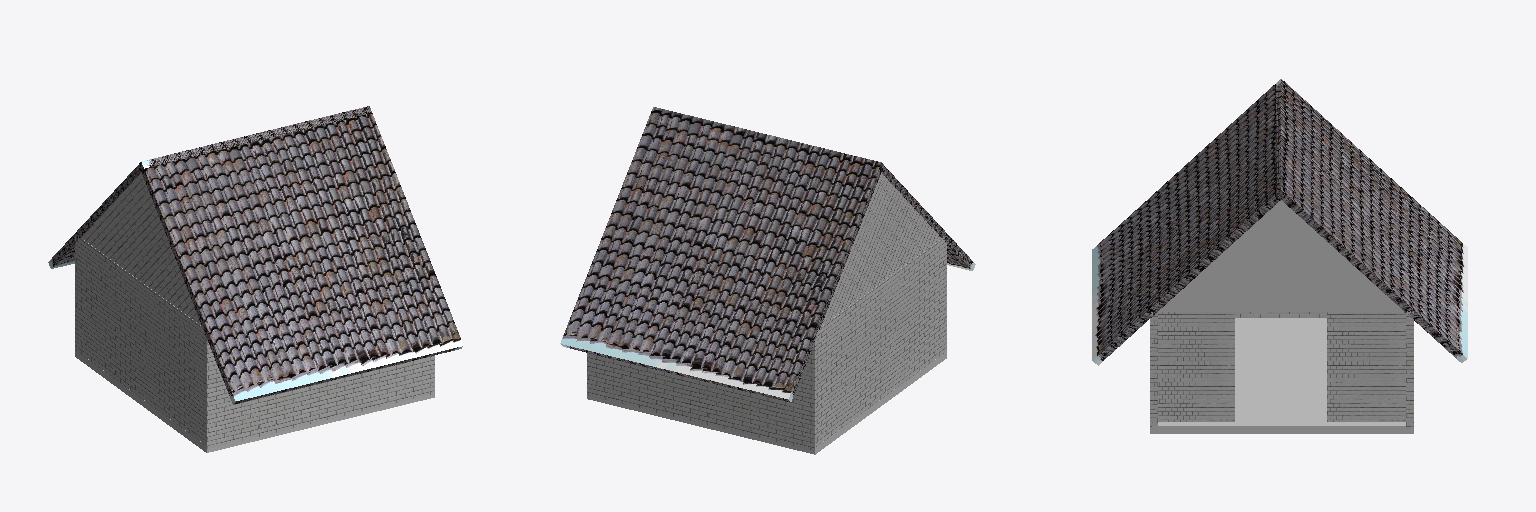
3 renders of one model, left to right at view 1: azimuth 30°, elevation 25°; view 2: azimuth 150°, elevation 25°; view 3: azimuth 270°, elevation 25°, orthographic.
Visible parts, largest first — view 1: Cube.004_Cube.005, Cube.007_Cube.009, Cube.005_Cube.006; view 2: Cube.004_Cube.005, Cube.007_Cube.009, Cube.005_Cube.006; view 3: Cube.004_Cube.005, Cube.007_Cube.009, Cube.005_Cube.006.
Boxes of the visible parts, box(x1,y1,x2,y2) form: Cube.004_Cube.005: box(48, 106, 463, 403); Cube.007_Cube.009: box(75, 172, 434, 448); Cube.005_Cube.006: box(75, 350, 434, 452); Cube.004_Cube.005: box(560, 107, 975, 401); Cube.007_Cube.009: box(587, 173, 946, 450); Cube.005_Cube.006: box(587, 351, 946, 454); Cube.004_Cube.005: box(1092, 79, 1467, 365); Cube.007_Cube.009: box(1150, 200, 1413, 429); Cube.005_Cube.006: box(1150, 318, 1413, 433).
Size of the model in its own units: 20 by 20.41 by 28.46.
4 materials, 2 textured.